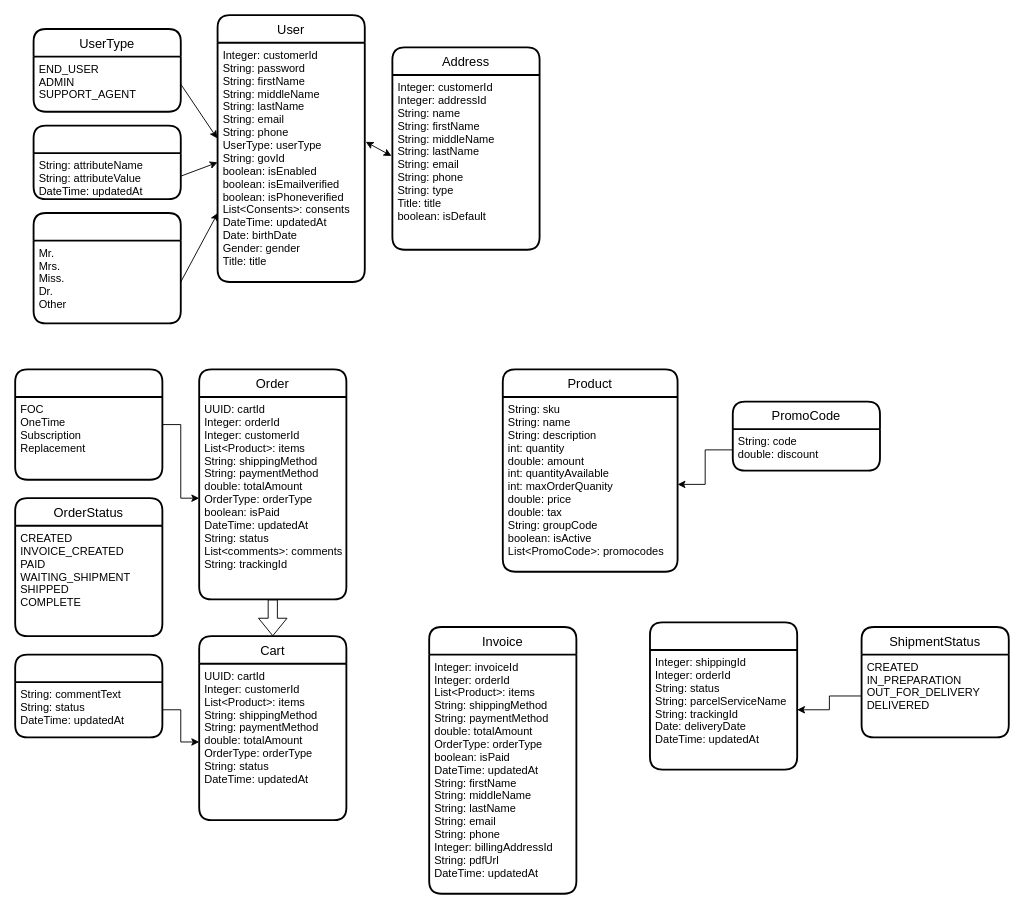
The diagram is 1024 pixels wide and 909 high, and some of its shapes have lost their labels. Each missing label, with the box of its shape:
Comments: (14, 653, 163, 738)
Consents: (32, 124, 181, 200)
OrderType: (14, 368, 163, 480)
Shipment: (649, 621, 798, 770)
Title: (32, 212, 181, 324)
